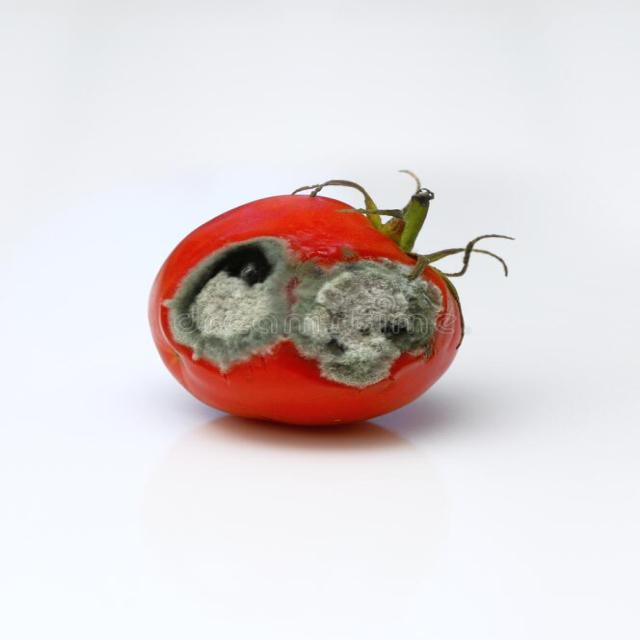Wet Waste: (132, 188, 482, 441)
